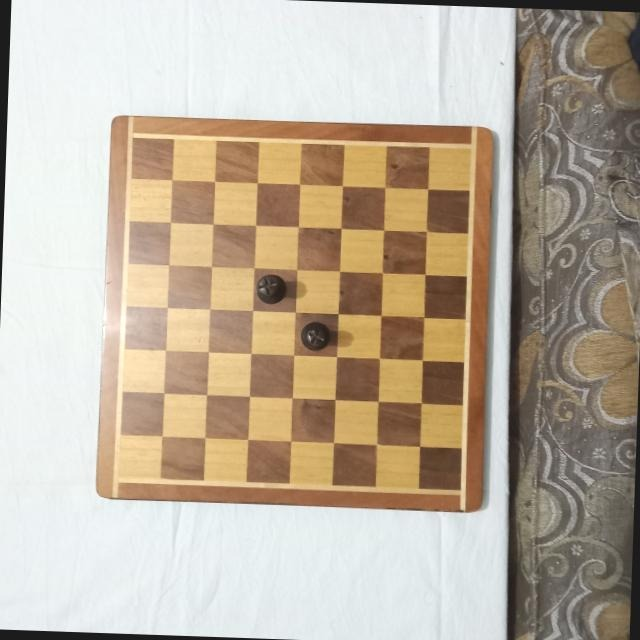black-rook: (298, 319, 330, 352), (255, 274, 287, 306)
